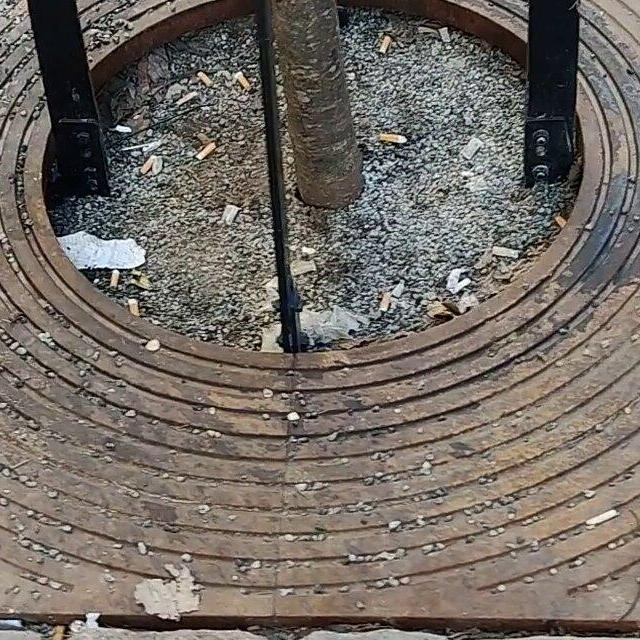Cigarette Butt: (379, 130, 410, 146), (237, 71, 252, 93), (377, 33, 391, 56), (377, 290, 391, 313), (139, 156, 154, 176), (495, 247, 521, 258), (197, 69, 212, 87), (198, 143, 213, 160), (109, 268, 119, 290), (128, 297, 140, 314), (555, 217, 569, 228)
